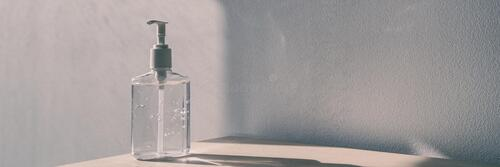sanitizer: (128, 18, 192, 159)
